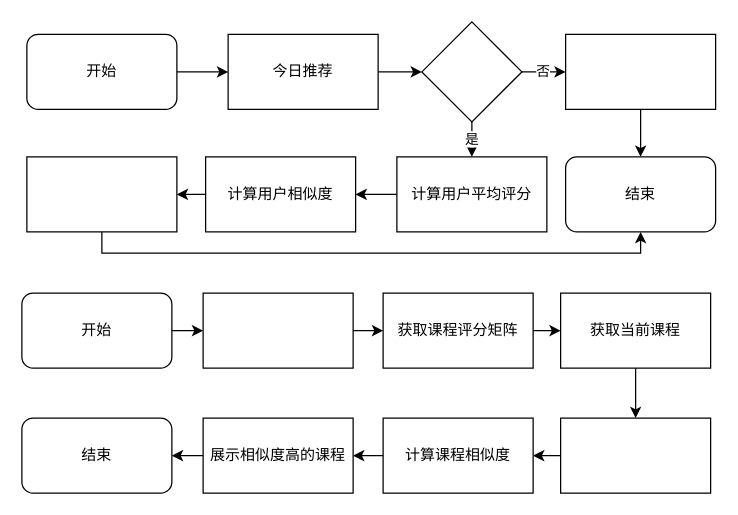
Image size: 738x515. Some labels were removed from this diagram. The box of each missing label's shape, as (x1, y1, x2, y2) in pixels:
展示销售量高的课程: (564, 33, 716, 109)
是否登录: (421, 21, 522, 122)
猜你喜欢: (202, 292, 353, 368)
计算课程平均评分: (559, 417, 711, 493)
计算课程推荐度: (26, 156, 177, 232)
